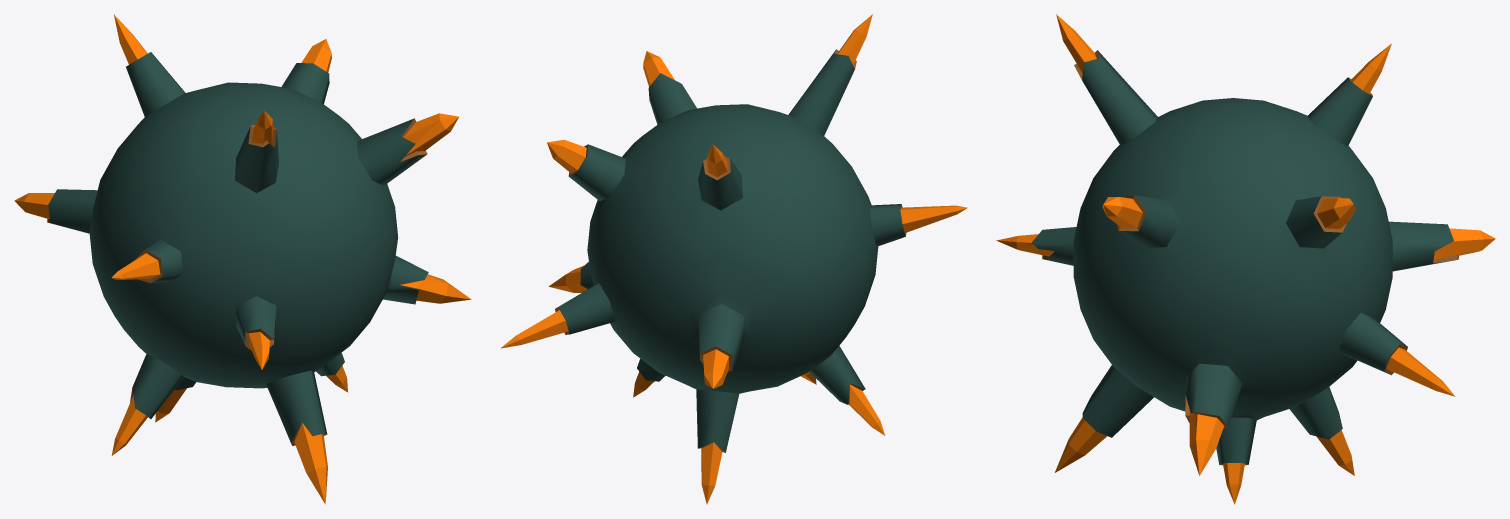
The model's file is Explosive_Planet_Orange_Spikes.fbx.
3 renders of one model, left to right at view 1: azimuth 30°, elevation 25°; view 2: azimuth 150°, elevation 25°; view 3: azimuth 270°, elevation 25°, orthographic. The views are drawn at different scales.
Visible parts, largest first — view 1: Planet_OrangeSpikes_Mesh; view 2: Planet_OrangeSpikes_Mesh; view 3: Planet_OrangeSpikes_Mesh.
Part boxes in pixels (box(x1,y1,x2,y2)): Planet_OrangeSpikes_Mesh: box(14, 14, 471, 504); Planet_OrangeSpikes_Mesh: box(500, 14, 967, 504); Planet_OrangeSpikes_Mesh: box(996, 14, 1495, 504).
Bounding box in the file's own units: 7.07 × 7.13 × 7.25.
